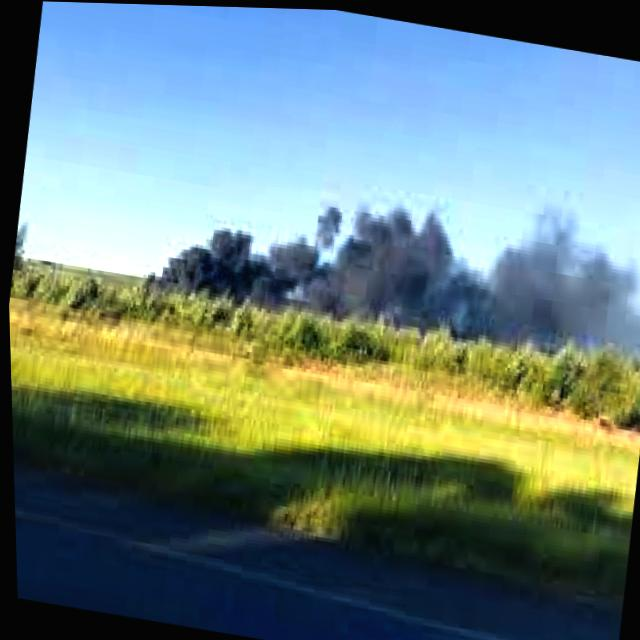no_helmet: (147, 150, 640, 380)
